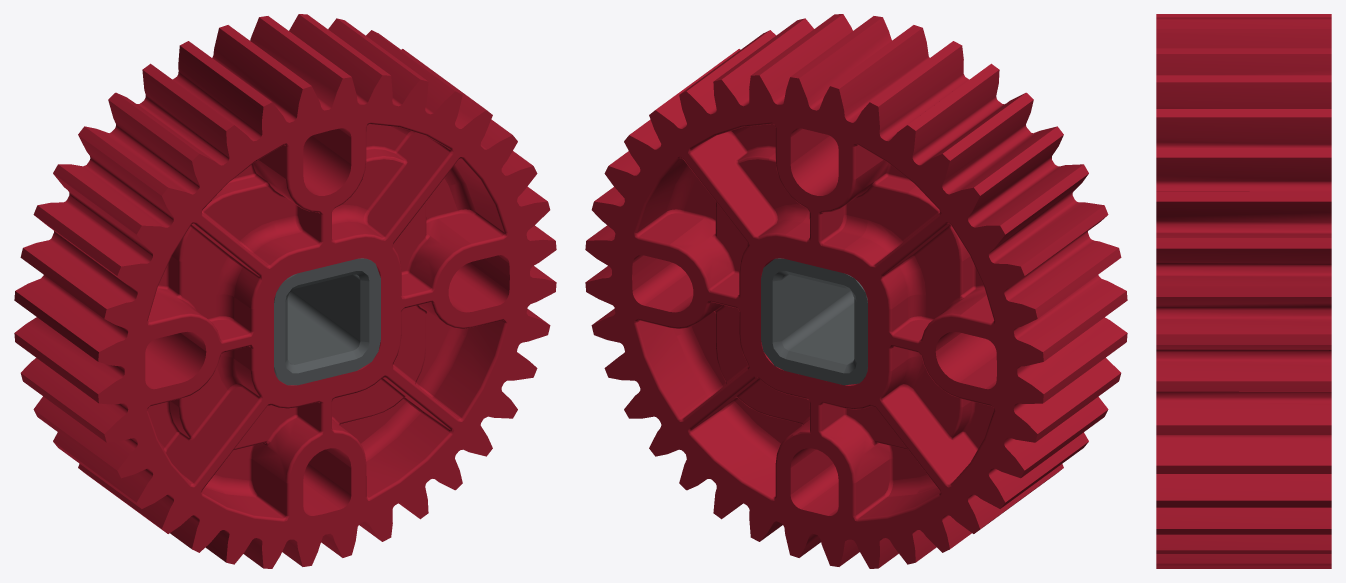
The model's file is 276-7747-dad36a.glb.
3 renders of one model, left to right at view 1: azimuth 30°, elevation 25°; view 2: azimuth 150°, elevation 25°; view 3: azimuth 270°, elevation 25°, orthographic. The views are drawn at different scales.
Parts seen in each view (by area): view 1: 276-7747-001_OVERMOLD Rev3_36T 24DP Gear Rev1, 276-7573-002 Rev7; view 2: 276-7747-001_OVERMOLD Rev3_36T 24DP Gear Rev1, 276-7573-002 Rev7; view 3: 276-7747-001_OVERMOLD Rev3_36T 24DP Gear Rev1.
Part boxes in pixels (x1,y1,x2,y2): 276-7747-001_OVERMOLD Rev3_36T 24DP Gear Rev1: [14, 14, 556, 568]; 276-7573-002 Rev7: [274, 258, 380, 385]; 276-7747-001_OVERMOLD Rev3_36T 24DP Gear Rev1: [585, 14, 1127, 568]; 276-7573-002 Rev7: [761, 258, 867, 385]; 276-7747-001_OVERMOLD Rev3_36T 24DP Gear Rev1: [1156, 14, 1331, 568].
Size of the model in its own units: 40.13 by 40.13 by 12.7.
